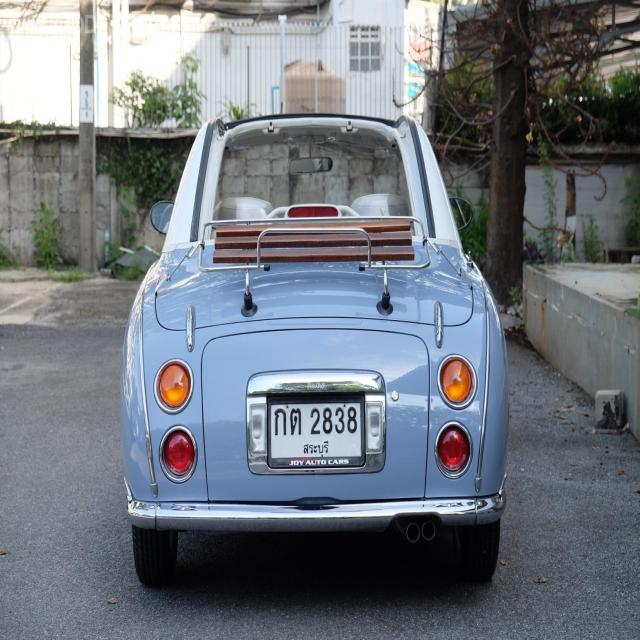license_plate: (268, 392, 365, 467)
